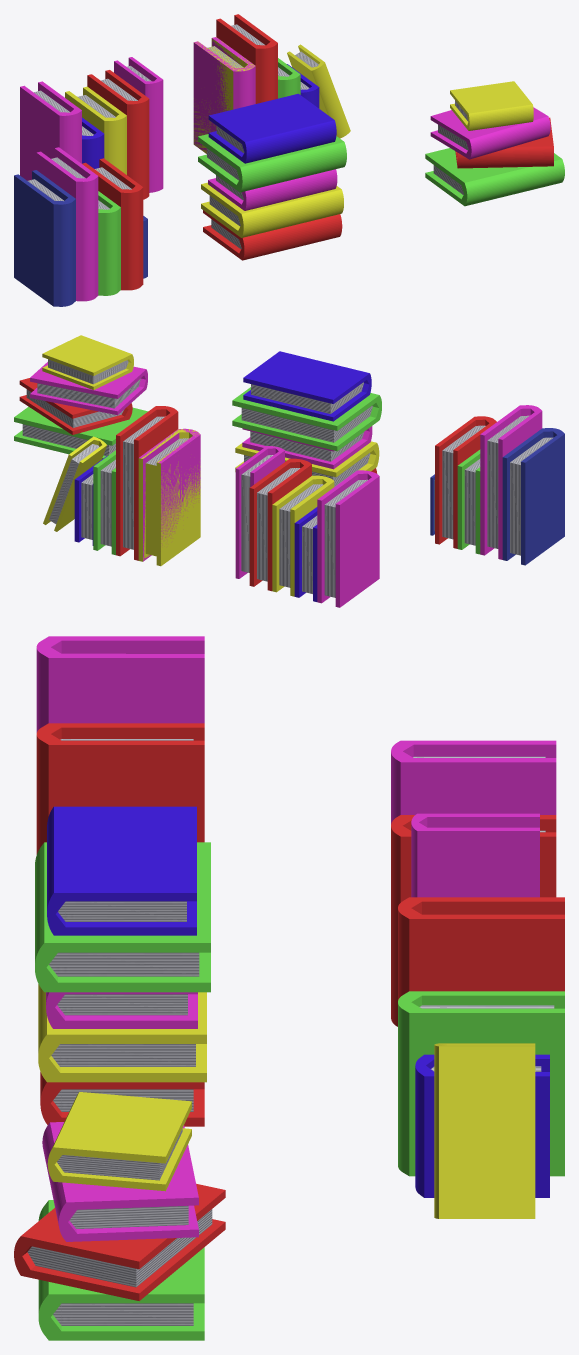
Rendered from SM_BooksProps.fbx.
3 renders of one model, top to bottom at view 1: azimuth 30°, elevation 25°; view 2: azimuth 150°, elevation 25°; view 3: azimuth 270°, elevation 25°, orthographic. The views are drawn at different scales.
Parts seen in each view (by area): view 1: SM_SingleMash_05, SM_SingleMash_01, SM_SingleMash_02, SM_SingleMash_04, SM_SingleMash_03; view 2: SM_SingleMash_02, SM_SingleMash_01, SM_SingleMash_03, SM_SingleMash_05, SM_SingleMash_04; view 3: SM_SingleMash_03, SM_SingleMash_05, SM_SingleMash_04, SM_SingleMash_01, SM_SingleMash_02.
Part boxes in pixels (<box>): SM_SingleMash_05: <box>198,93,346,260</box>; SM_SingleMash_01: <box>14,147,147,306</box>; SM_SingleMash_02: <box>20,57,163,199</box>; SM_SingleMash_04: <box>425,81,564,206</box>; SM_SingleMash_03: <box>193,14,350,153</box>; SM_SingleMash_02: <box>235,446,379,607</box>; SM_SingleMash_01: <box>430,405,564,565</box>; SM_SingleMash_03: <box>43,406,200,566</box>; SM_SingleMash_05: <box>232,351,381,486</box>; SM_SingleMash_04: <box>14,335,147,458</box>; SM_SingleMash_03: <box>398,897,564,1218</box>; SM_SingleMash_05: <box>35,806,210,1126</box>; SM_SingleMash_04: <box>14,1092,225,1340</box>; SM_SingleMash_01: <box>36,636,204,854</box>; SM_SingleMash_02: <box>391,740,556,1026</box>.
Size of the model in its own units: 234 by 51.45 by 109.
7 materials, 1 textured.
